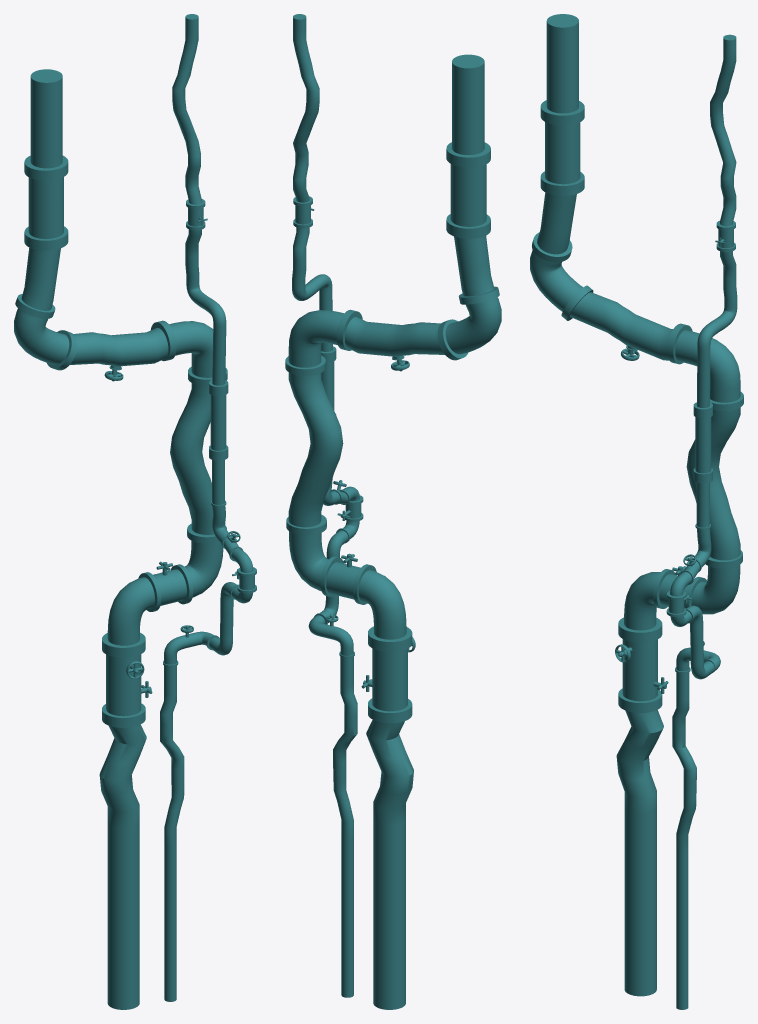
File: pipes 2 low.fbx
3 renders of one model, left to right at view 1: azimuth 30°, elevation 25°; view 2: azimuth 150°, elevation 25°; view 3: azimuth 330°, elevation 25°, orthographic.
Visible parts, largest first — view 1: pipe_02_low, pipe_01_low; view 2: pipe_02_low, pipe_01_low; view 3: pipe_02_low, pipe_01_low.
Part boxes in pixels (<box>): pipe_02_low: <box>14,69,227,1009</box>; pipe_01_low: <box>160,14,256,1001</box>; pipe_02_low: <box>285,54,501,1009</box>; pipe_01_low: <box>292,14,363,997</box>; pipe_02_low: <box>530,14,743,996</box>; pipe_01_low: <box>666,34,737,1009</box>.
Bounding box in the file's own units: 0.76 × 3.36 × 0.3935.
